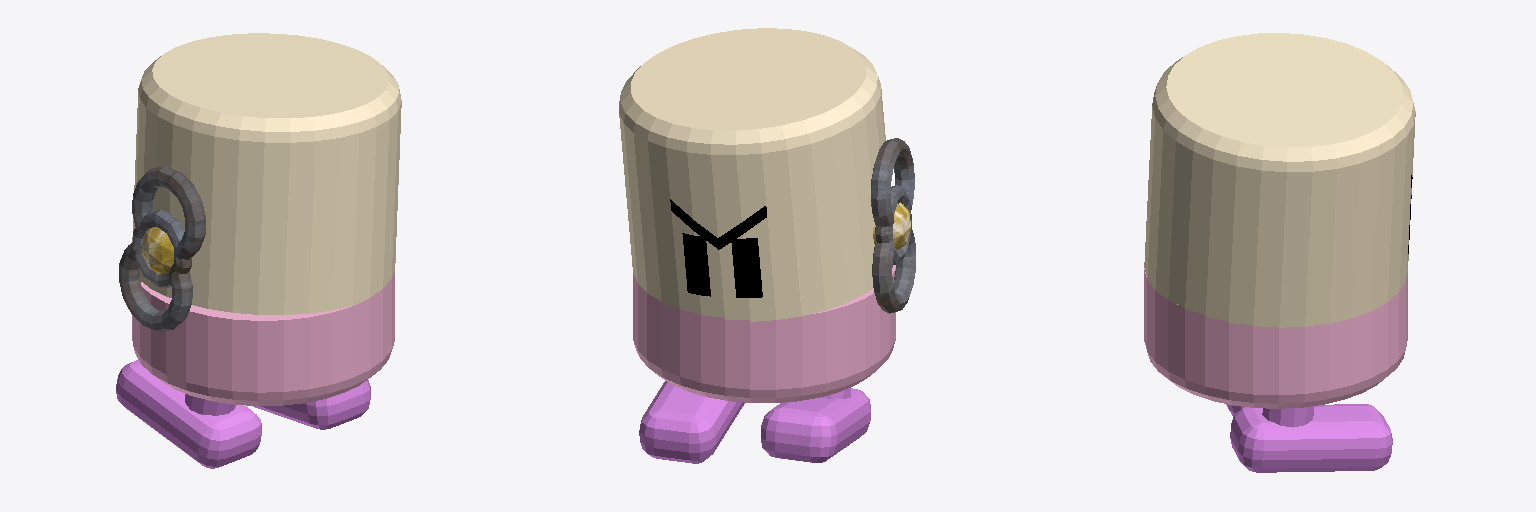
The picture shows the model from 3 angles: view 1: azimuth 30°, elevation 25°; view 2: azimuth 150°, elevation 25°; view 3: azimuth 270°, elevation 25°; orthographic projection.
Parts seen in each view (by area): view 1: Head, Jaw, WindupKey, LeftLeg, RightLeg; view 2: Head, Jaw, WindupKey, LeftLeg, RightLeg; view 3: Head, Jaw, RightLeg.
Boxes of the visible parts, box(x1,y1,x2,y2) form: Head: box(132, 33, 401, 314); Jaw: box(132, 270, 394, 405); WindupKey: box(119, 166, 205, 331); LeftLeg: box(116, 360, 261, 468); RightLeg: box(253, 380, 370, 429); Head: box(619, 28, 893, 321); Jaw: box(633, 265, 895, 402); WindupKey: box(871, 138, 915, 313); LeftLeg: box(761, 388, 870, 462); RightLeg: box(639, 381, 744, 463); Head: box(1144, 33, 1415, 327); Jaw: box(1144, 268, 1407, 408); RightLeg: box(1230, 404, 1392, 472).
Size of the model in its own units: 114 by 153 by 103.
Materials: 6 (2 with a texture image).